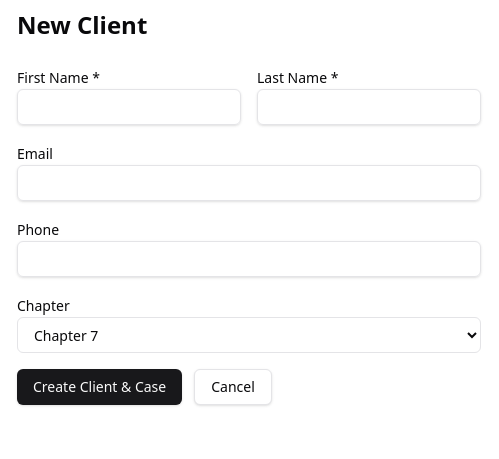
CreateClient › should show error on failure
The image size is (499, 459).
Type "Jane" into the field labelled "First Name *". click: {"x": 129, "y": 107}
box: [17, 89, 241, 125]
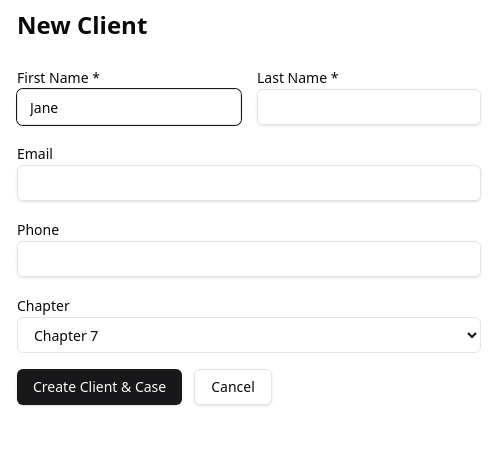
Type "Smith" into the field labelled "Last Name *". click: {"x": 369, "y": 107}
box: [257, 89, 481, 125]
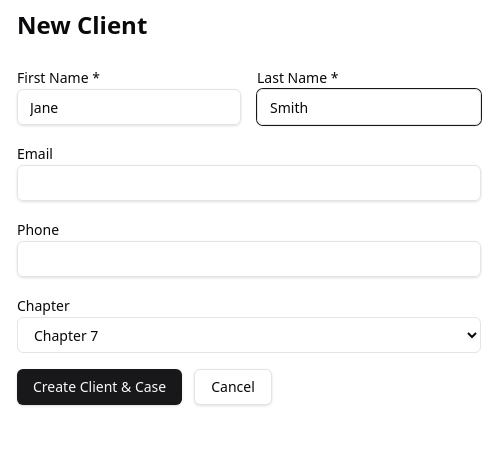
Click the button "Create Client & Case". click: {"x": 100, "y": 387}
box: [17, 369, 182, 405]
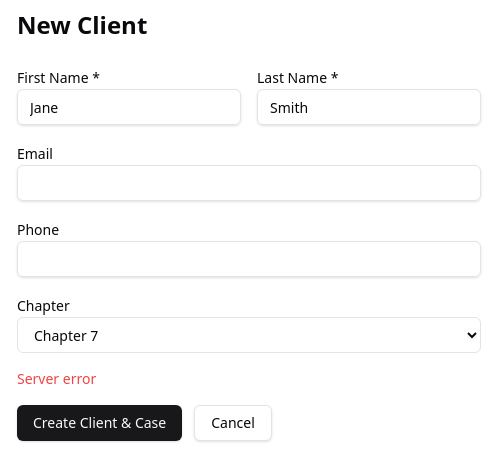
Expected: the text "Server error" is shown, [17, 369, 96, 388]
